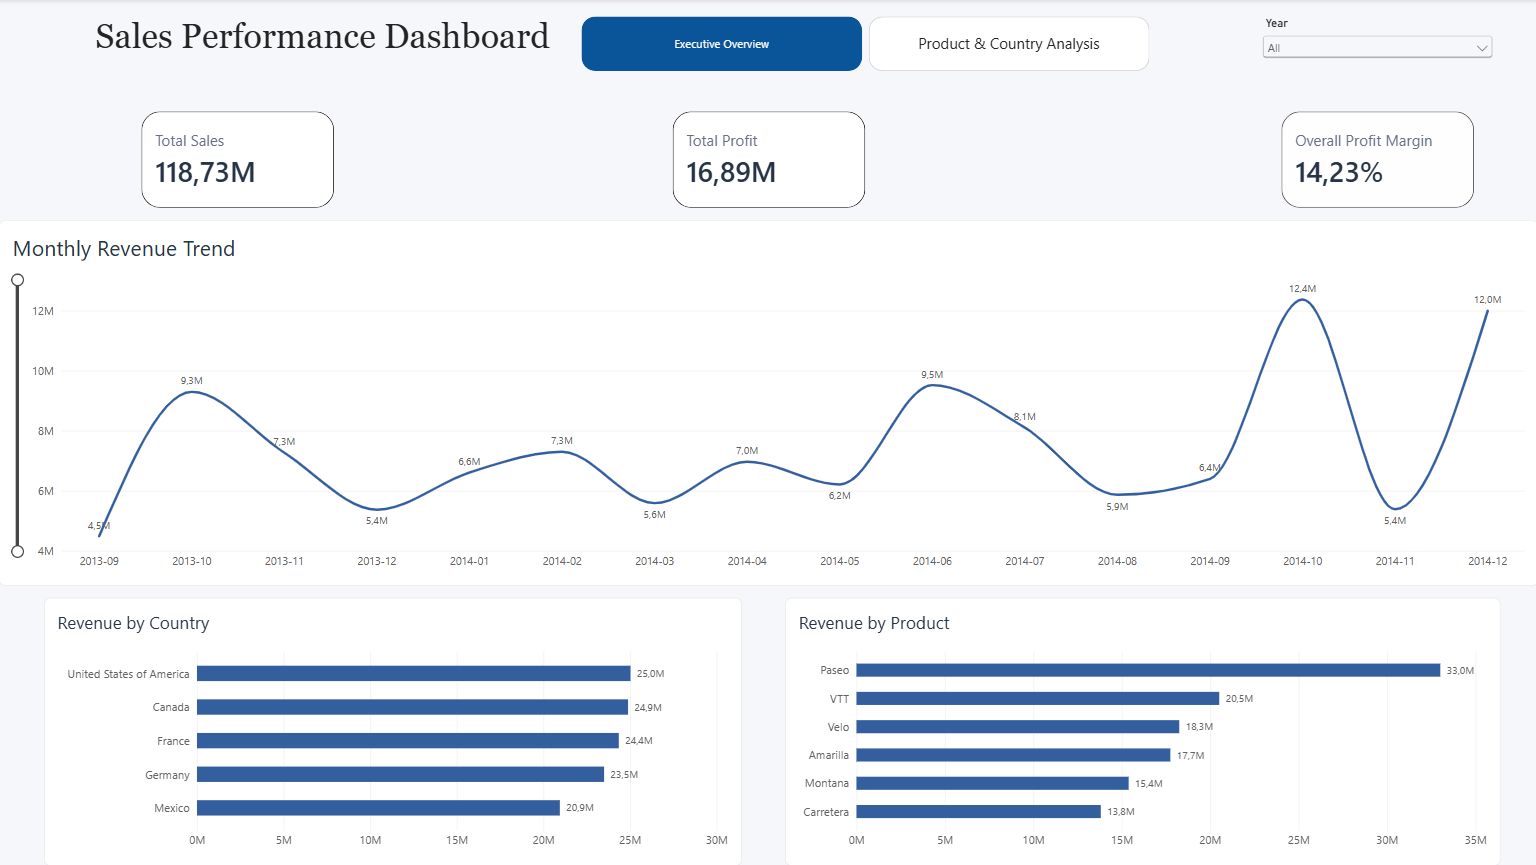

What the dashboard file says about the page in this screenshot:
{"tool":"powerbi","page":{"name":"Executive Overview","canvas":[1920,1080],"ordinal":0},"visuals":[{"type":"cardVisual","fields":{"Data":["financials (2).Total Sales"]},"box":[178,140,240,120],"z":0},{"type":"cardVisual","fields":{"Data":["financials (2).Total Profit"]},"box":[840,140,240,120],"z":1000},{"type":"cardVisual","fields":{"Data":["financials (2).Overall Profit Margin"]},"box":[1600,140,240,120],"z":2000},{"type":"clusteredBarChart","title":"Revenue by Country","fields":{"Category":["financials (2).Country"],"Y":["Sum(financials (2).Sales)"]},"box":[56,746,870,334],"z":3000},{"type":"lineChart","title":"Monthly Revenue Trend","fields":{"Category":["DimDate.YearMonth"],"Y":["Sum(financials (2).Sales)"]},"box":[0,276,1920,456],"z":4000},{"type":"slicer","fields":{"Values":["DimDate.Year"]},"box":[1572,22,296.5,75],"z":5000},{"type":"textbox","box":[120,22,596,62],"z":6000},{"type":"clusteredBarChart","title":"Revenue by Product","fields":{"Category":["DimProduct.Product"],"Y":["Sum(financials (2).Sales)"]},"box":[980,746,892,334],"z":7000},{"type":"pageNavigator","box":[726,22,708.3,68.3],"z":8000}]}

Visuals, with their boxes in screenshot pixels (x1, y1, x2, y2), scaled from the page's 1920x1080 canvas onto the 1536x865 screenshot:
cardVisual - financials (2).Total Sales: locate(142, 112, 334, 208)
cardVisual - financials (2).Total Profit: locate(672, 112, 864, 208)
cardVisual - financials (2).Overall Profit Margin: locate(1280, 112, 1472, 208)
"Revenue by Country" clusteredBarChart: locate(45, 597, 741, 864)
"Monthly Revenue Trend" lineChart: locate(0, 221, 1535, 586)
slicer - DimDate.Year: locate(1258, 18, 1495, 78)
textbox: locate(96, 18, 573, 67)
"Revenue by Product" clusteredBarChart: locate(784, 597, 1498, 864)
pageNavigator: locate(581, 18, 1147, 72)
